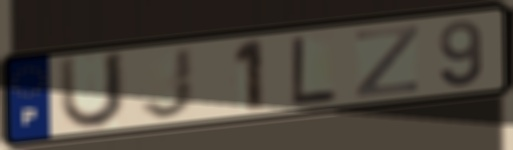1: (230, 36, 267, 114)
9: (436, 18, 485, 90)
J: (137, 45, 197, 122)
L: (289, 34, 340, 107)
U: (56, 49, 129, 132)
Z: (352, 22, 422, 100)
